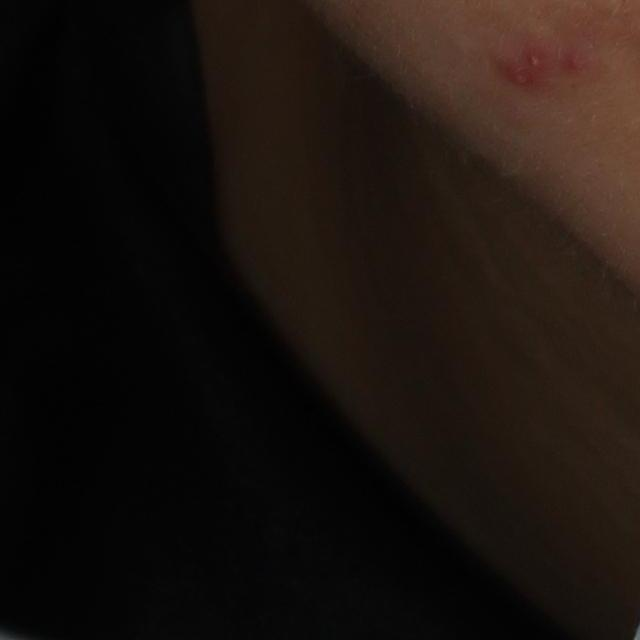papule: (499, 62, 540, 91), (525, 44, 551, 75)
